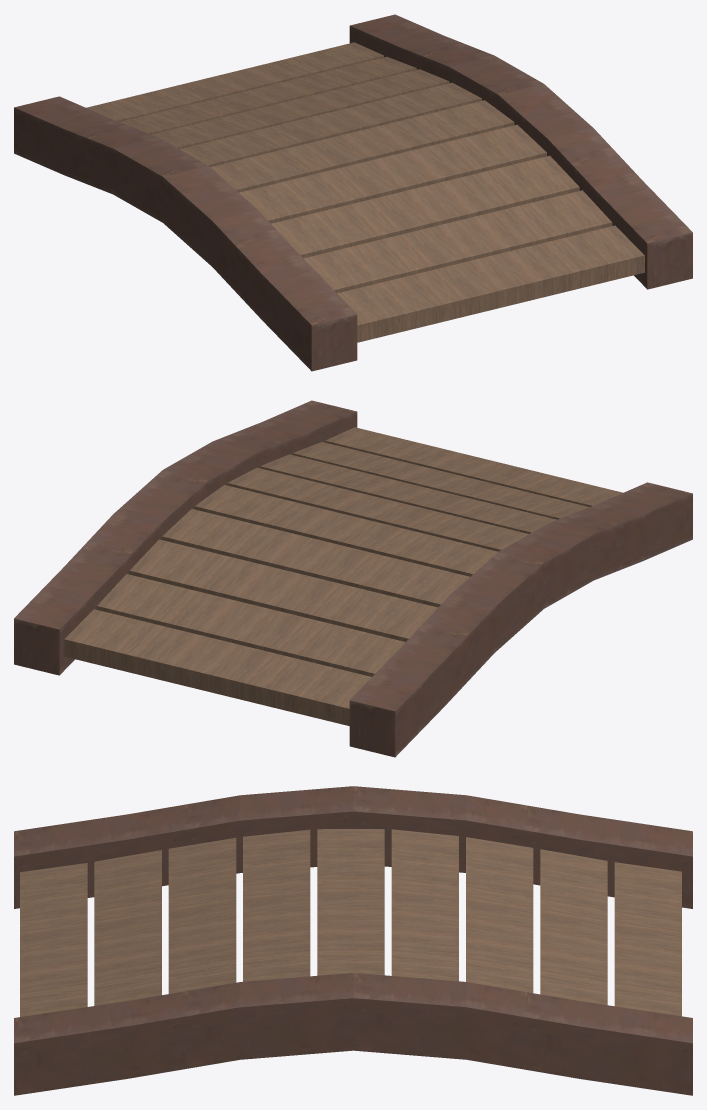
The model's file is Bridge_only.fbx.
The picture shows the model from 3 angles, top to bottom: view 1: azimuth 30°, elevation 25°; view 2: azimuth 150°, elevation 25°; view 3: azimuth 270°, elevation 25°; orthographic projection. The views are drawn at different scales.
Parts seen in each view (by area): view 1: steps, wood.001, wood; view 2: steps, wood.001, wood; view 3: steps, wood, wood.001.
Boxes of the visible parts, x1=… form: steps: x1=86, y1=42, x2=644, y2=342; wood.001: x1=14, y1=96, x2=357, y2=371; wood: x1=349, y1=14, x2=692, y2=289; steps: x1=64, y1=427, x2=622, y2=725; wood.001: x1=349, y1=482, x2=692, y2=757; wood: x1=14, y1=400, x2=357, y2=675; steps: x1=20, y1=829, x2=681, y2=1016; wood: x1=14, y1=973, x2=692, y2=1095; wood.001: x1=14, y1=786, x2=692, y2=908.
Bounding box in the file's own units: 148 × 31.74 × 200.
